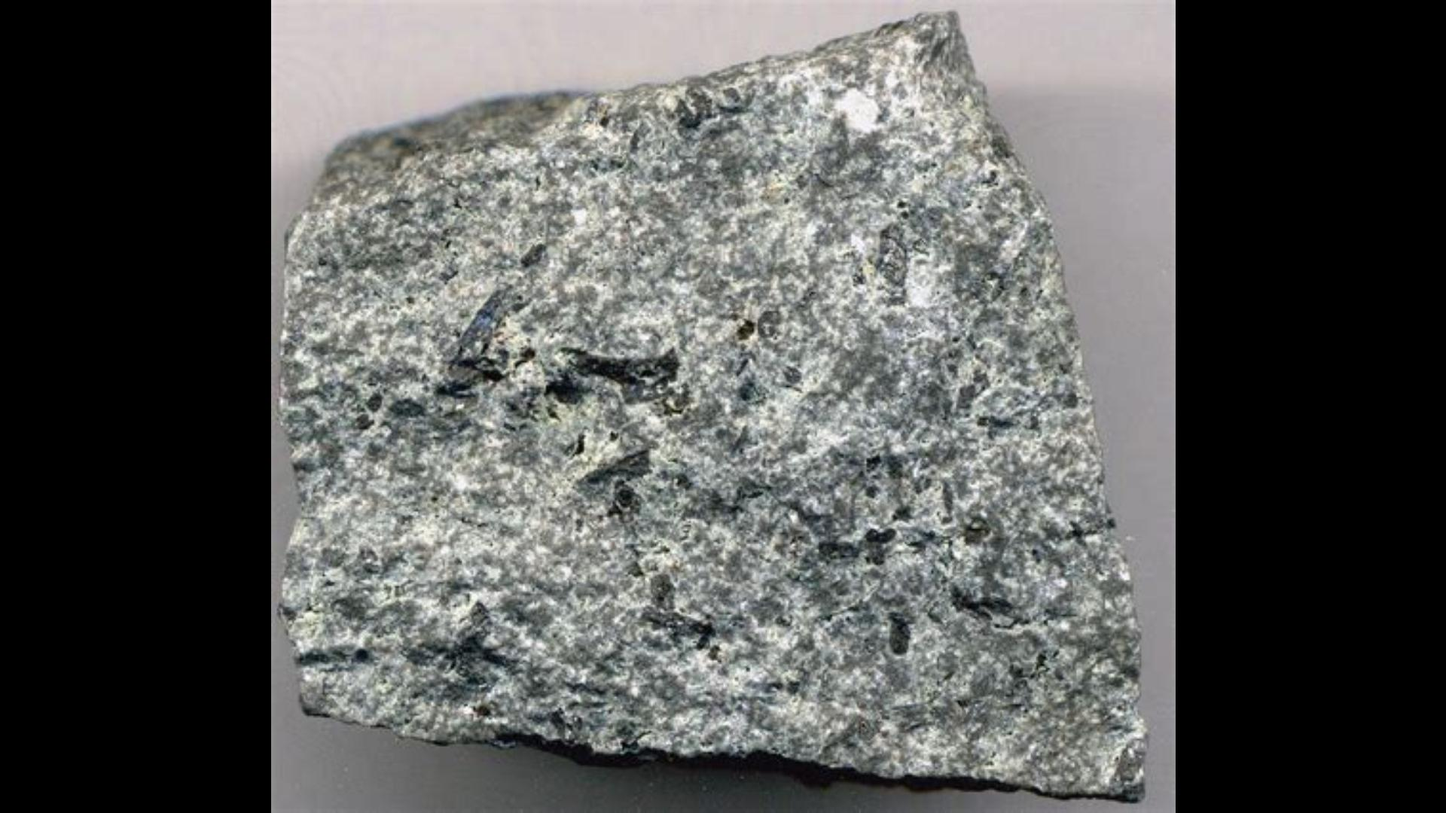rock: (289, 13, 1141, 796)
